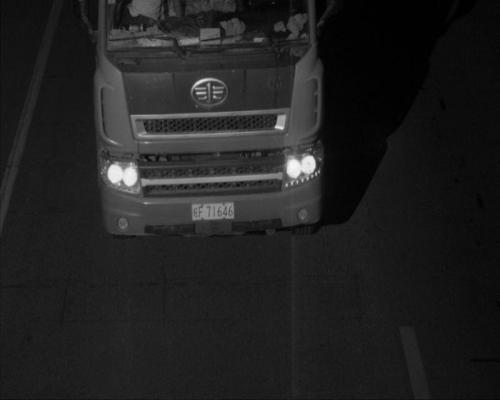Carplate: (190, 200, 238, 223)
